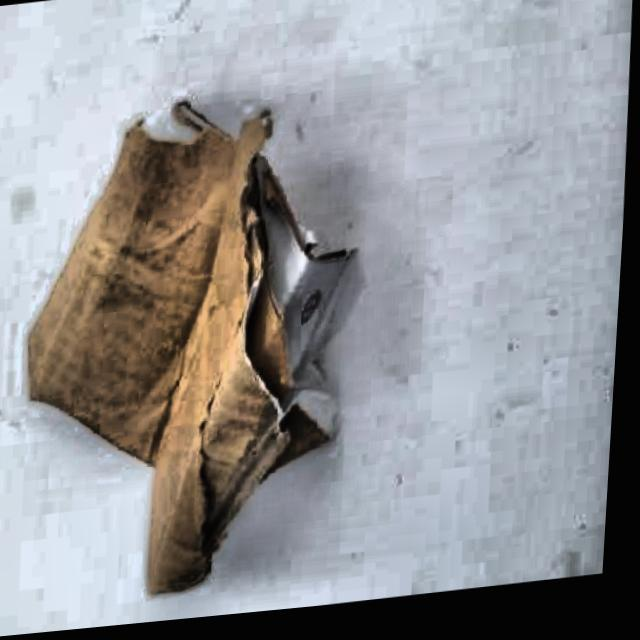Cardbox: (14, 59, 404, 619)
